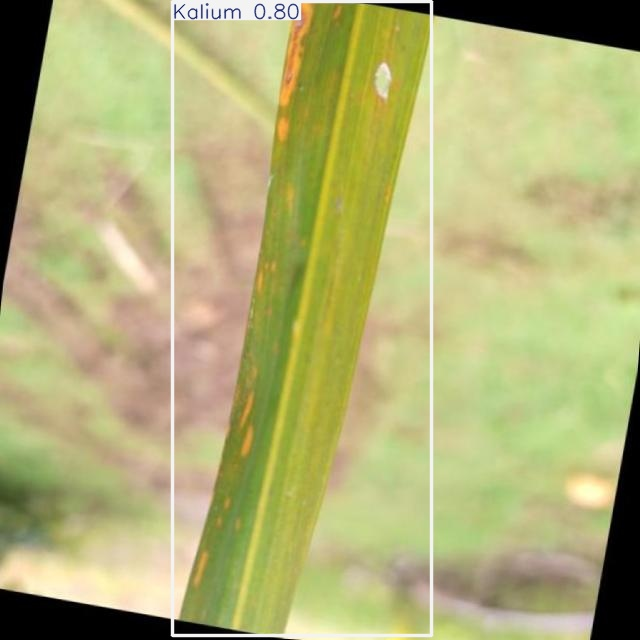Kalium: (172, 1, 432, 636)
